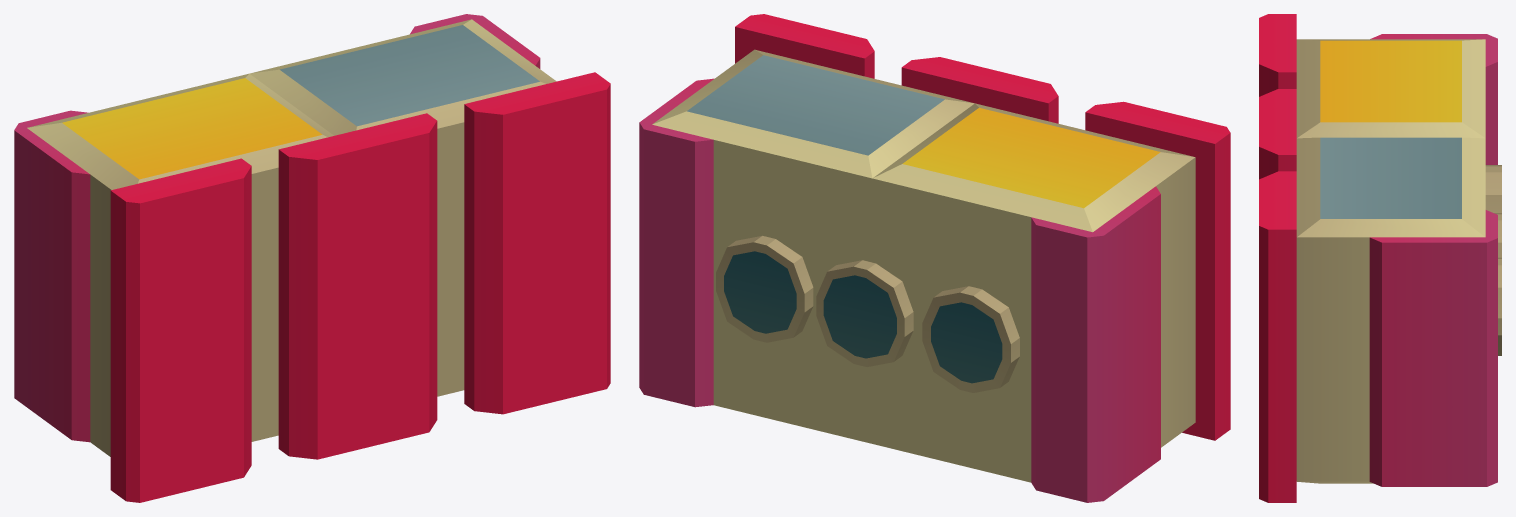
File: i-light.fbx
3 views of the same model, side by side, from view 1: azimuth 30°, elevation 25°; view 2: azimuth 150°, elevation 25°; view 3: azimuth 270°, elevation 25° (orthographic). The views are drawn at different scales.
Visible parts, largest first — view 1: Cube; view 2: Cube; view 3: Cube.
Boxes of the visible parts, x1,y1,x2,y2 form: Cube: [14, 14, 610, 502]; Cube: [639, 14, 1230, 502]; Cube: [1259, 14, 1501, 502].
Bounding box in the file's own units: 62.73 × 37.05 × 29.86.
